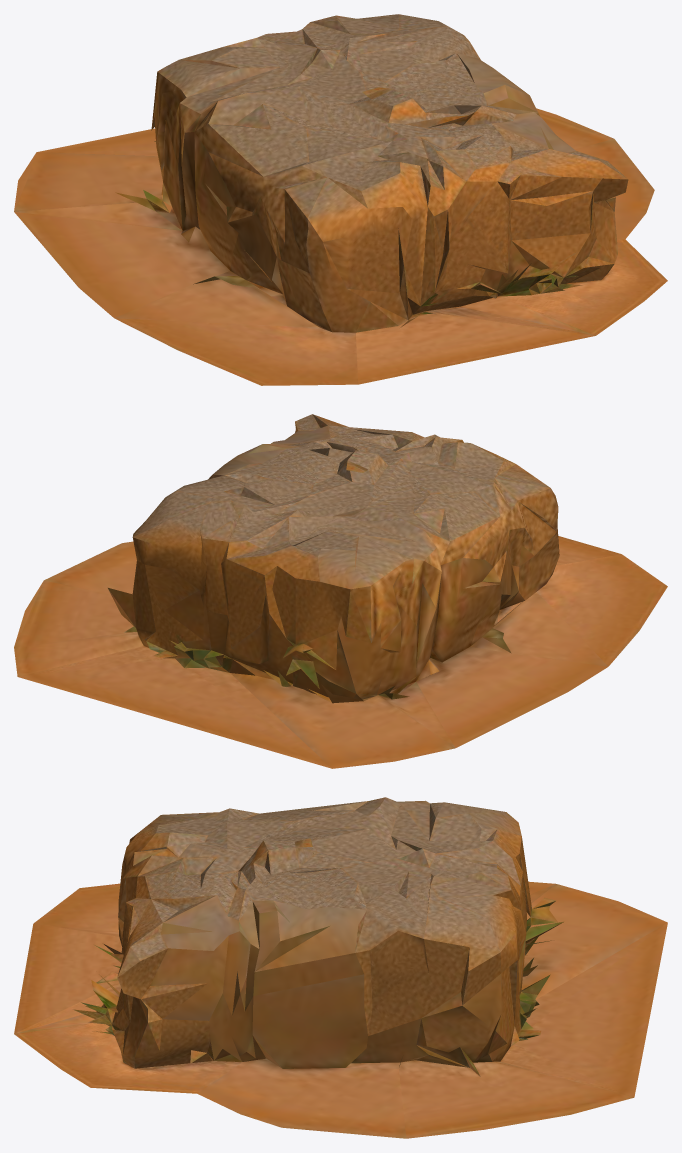
The model's file is west_haybale.glb.
3 renders of one model, top to bottom at view 1: azimuth 30°, elevation 25°; view 2: azimuth 150°, elevation 25°; view 3: azimuth 270°, elevation 25°, orthographic. The views are drawn at different scales.
Parts seen in each view (by area): view 1: mesh_node; view 2: mesh_node; view 3: mesh_node.
Part boxes in pixels (left/top/right/bottom): mesh_node: left=14, top=14, right=667, bottom=385; mesh_node: left=14, top=414, right=667, bottom=768; mesh_node: left=14, top=797, right=667, bottom=1138.
Bounding box in the file's own units: 1.83 × 0.4955 × 1.86.
1 material, 1 textured.
